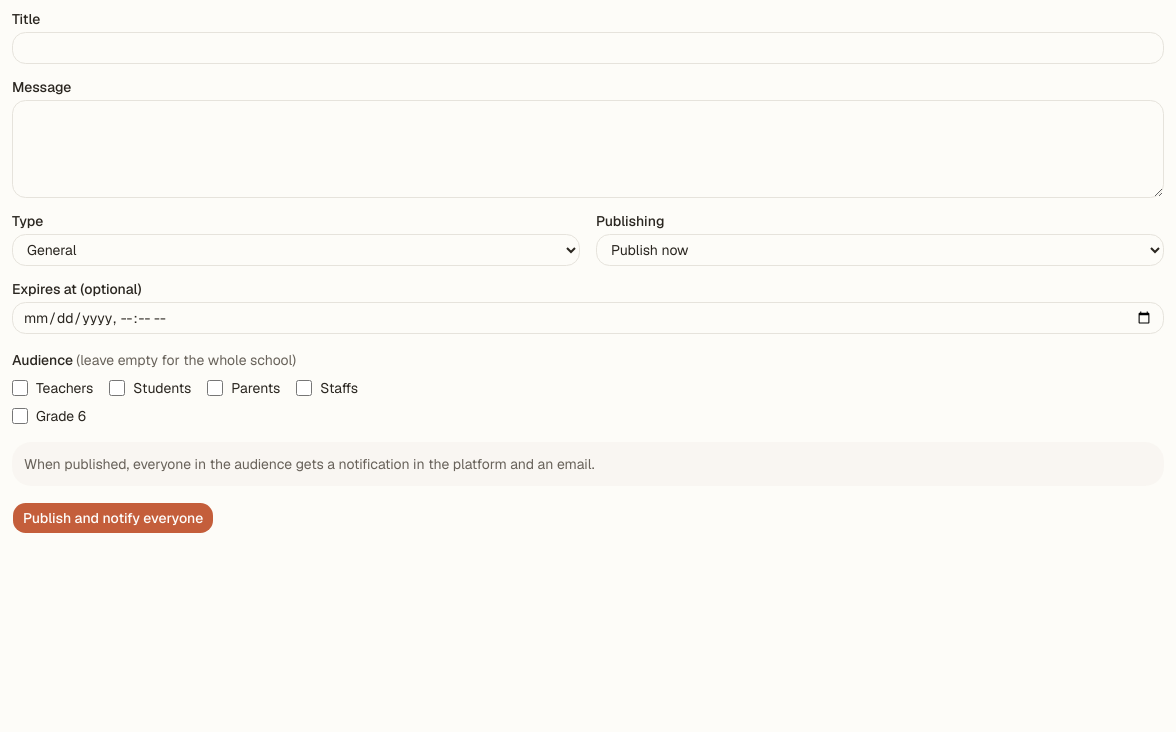
Test: NoticeForm › requires a publish time when scheduling
This screenshot has width=1176, height=732.
In the field labelled "Title": (588, 48) [12,32,1164,64], type "Later"
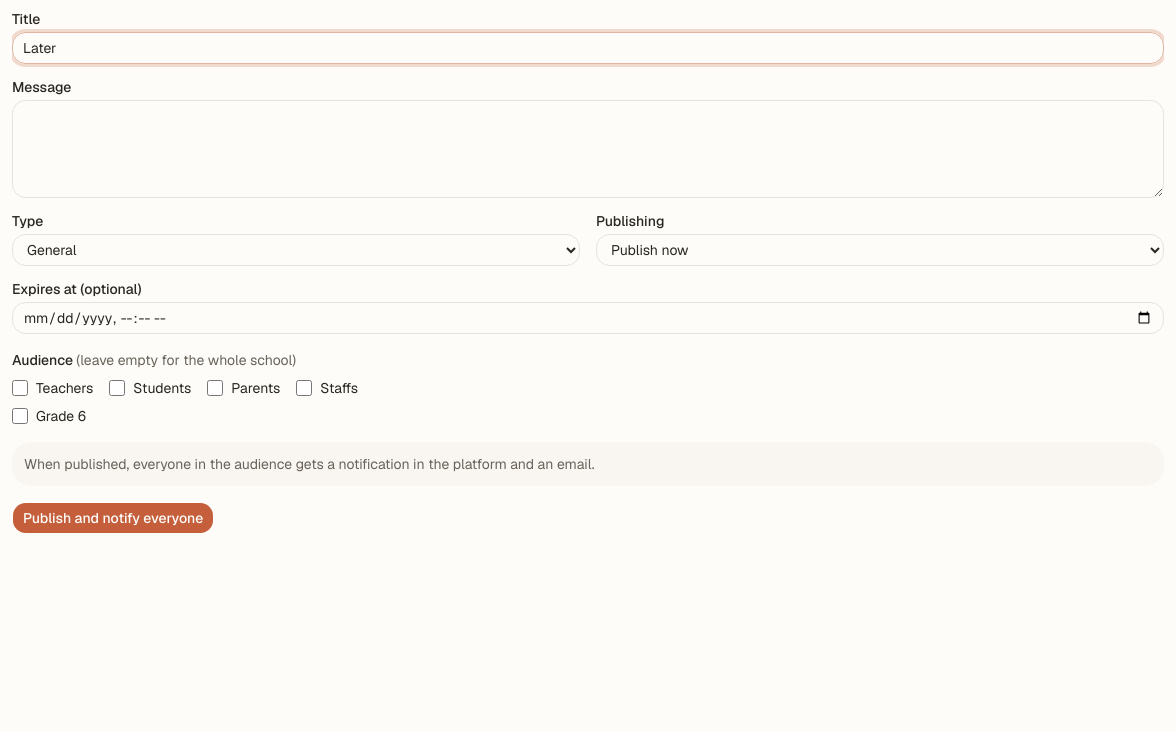
In the text box labelled "Message": (588, 149) [12,100,1164,198], type "Body"
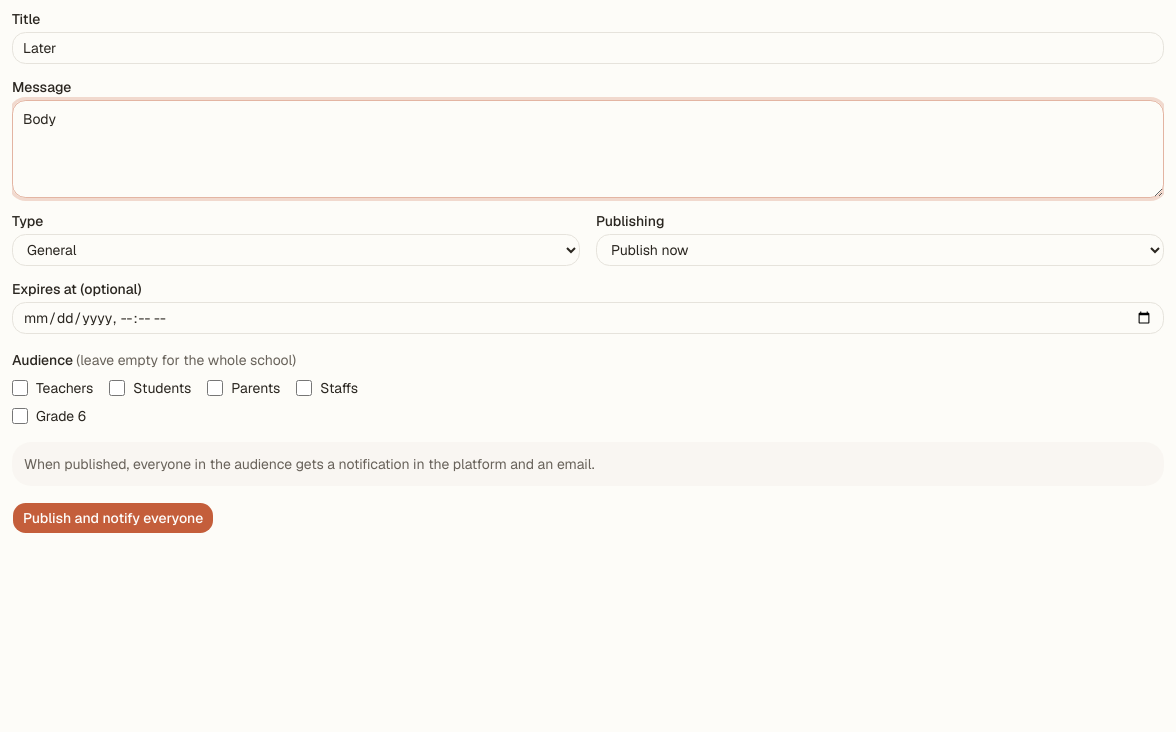
Select "Schedule" in the dropdown labelled "Publishing": (880, 250) [596,234,1164,266]
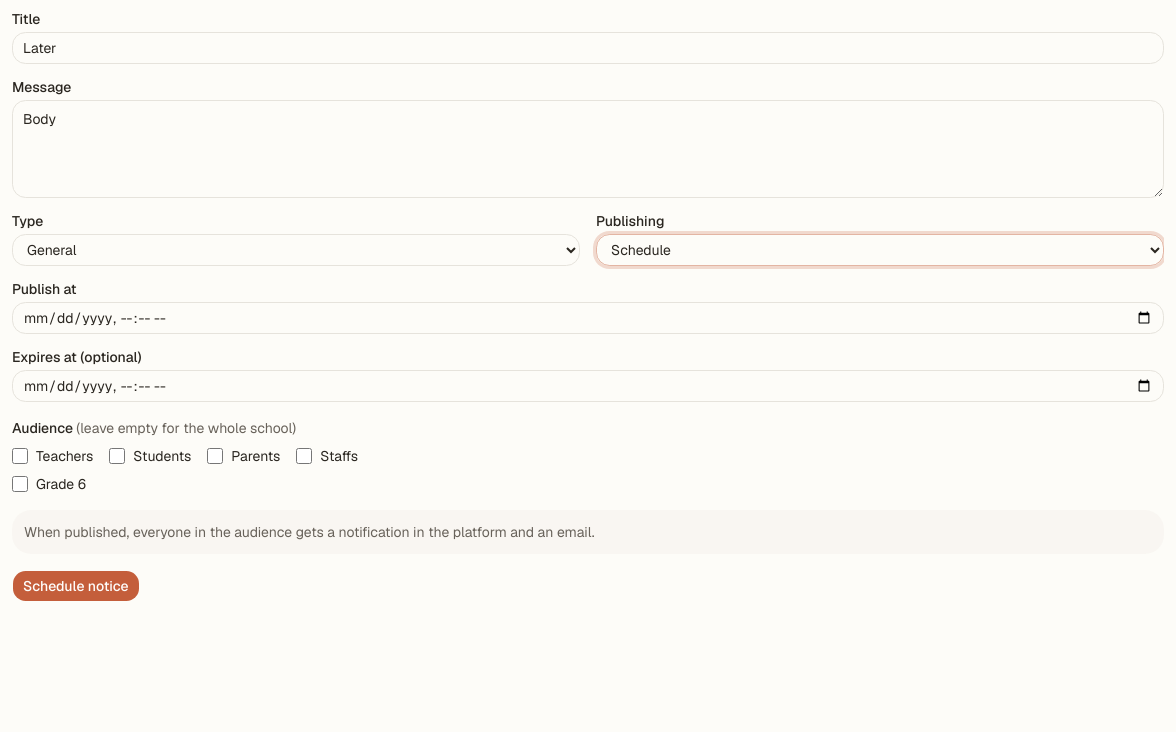
Click the button "Schedule notice": (76, 586) [12,570,140,602]
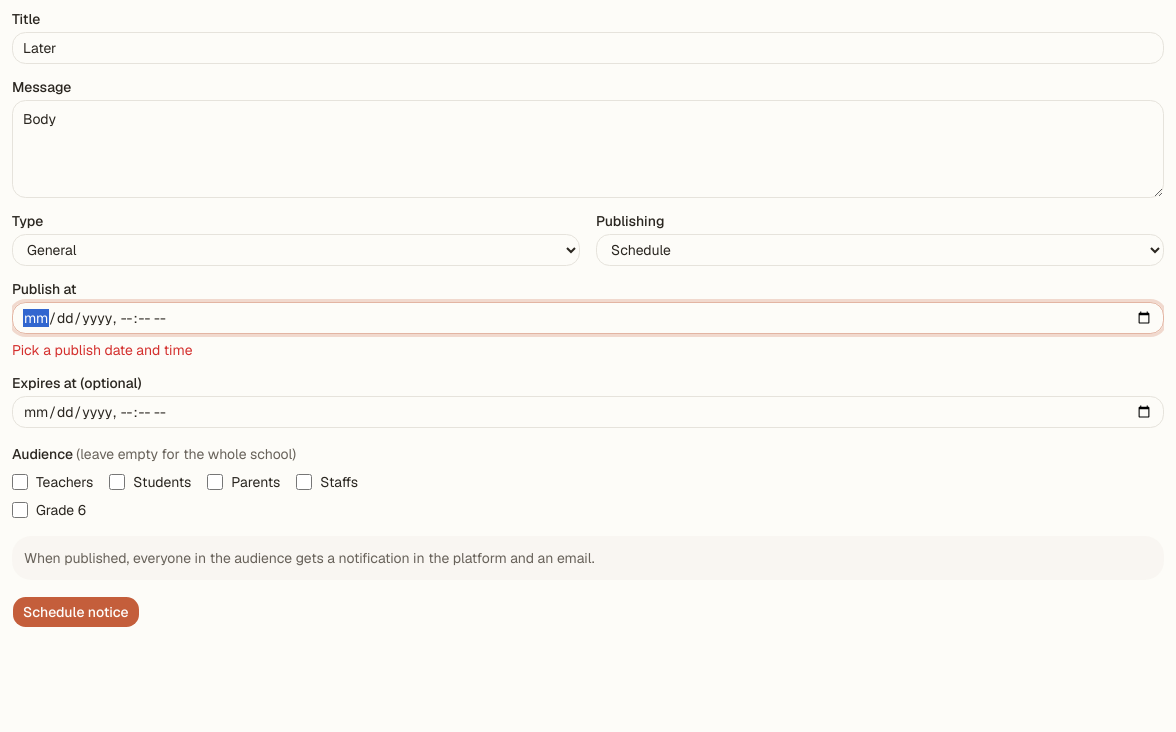
Expected: the text "Pick a publish date and time" is shown, [12,341,192,359]
